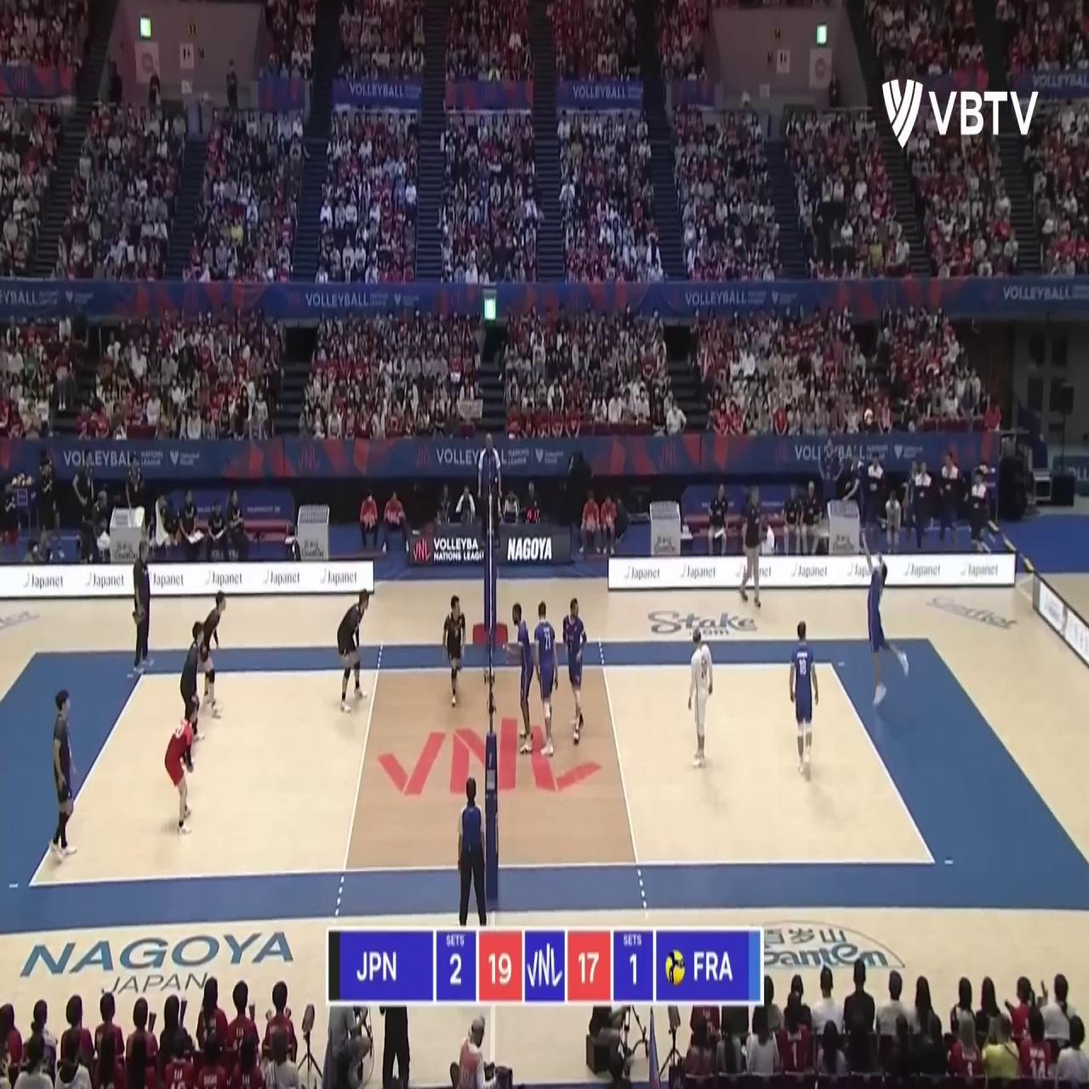ball: (863, 407, 875, 426)
